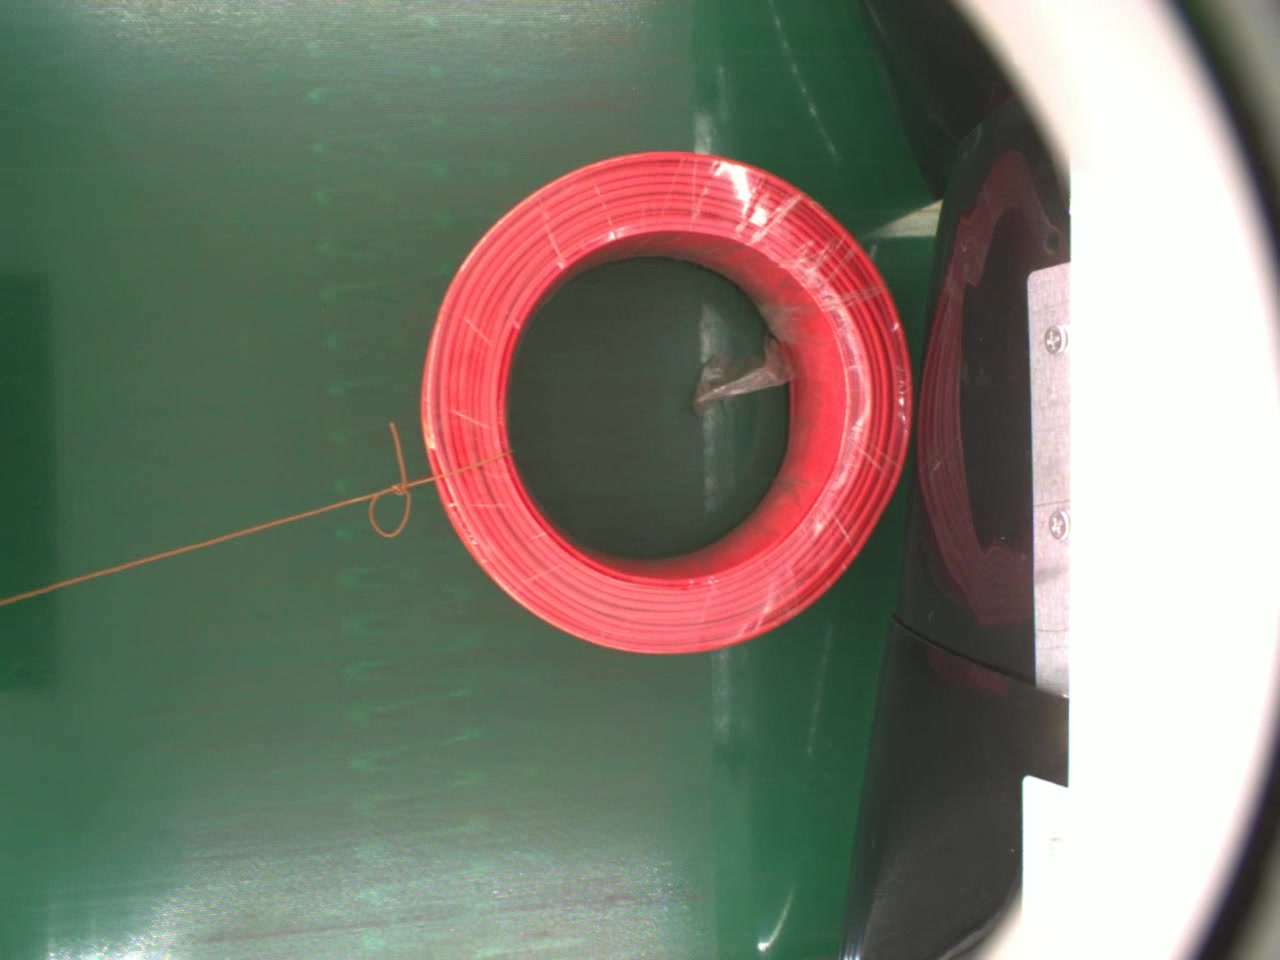red: (417, 151, 913, 655)
